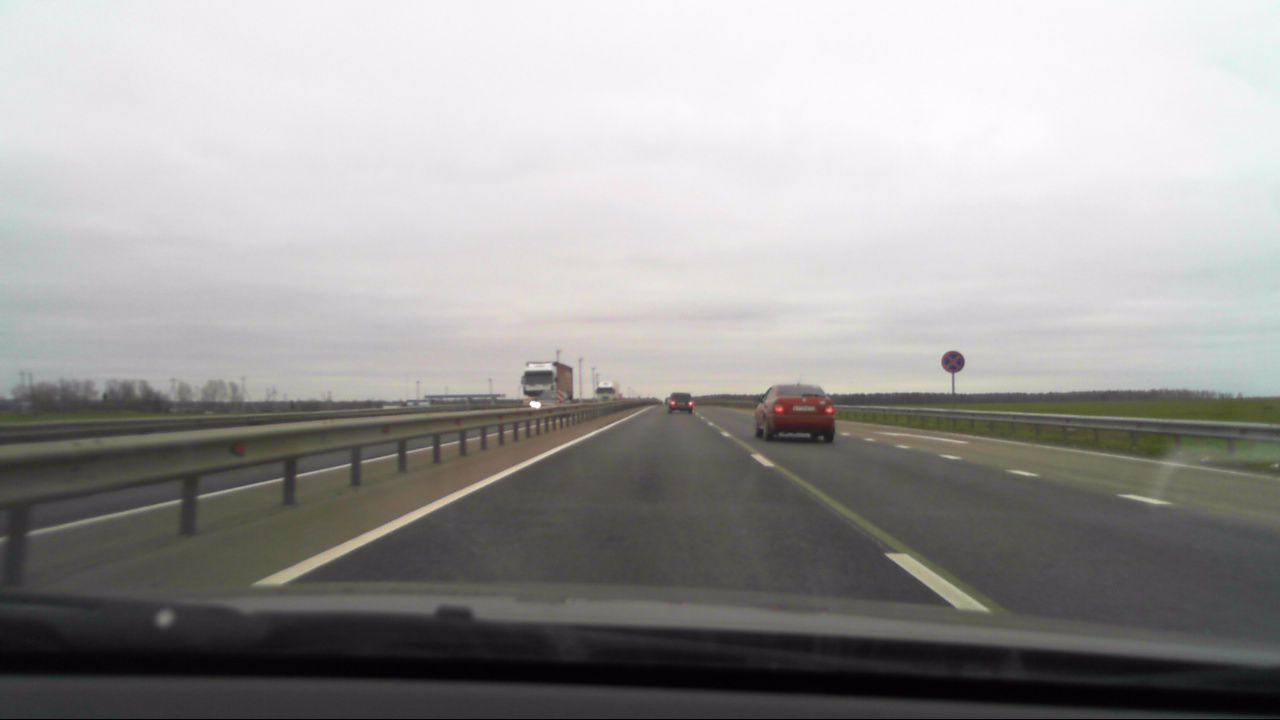No Parking: (937, 350, 962, 374)
